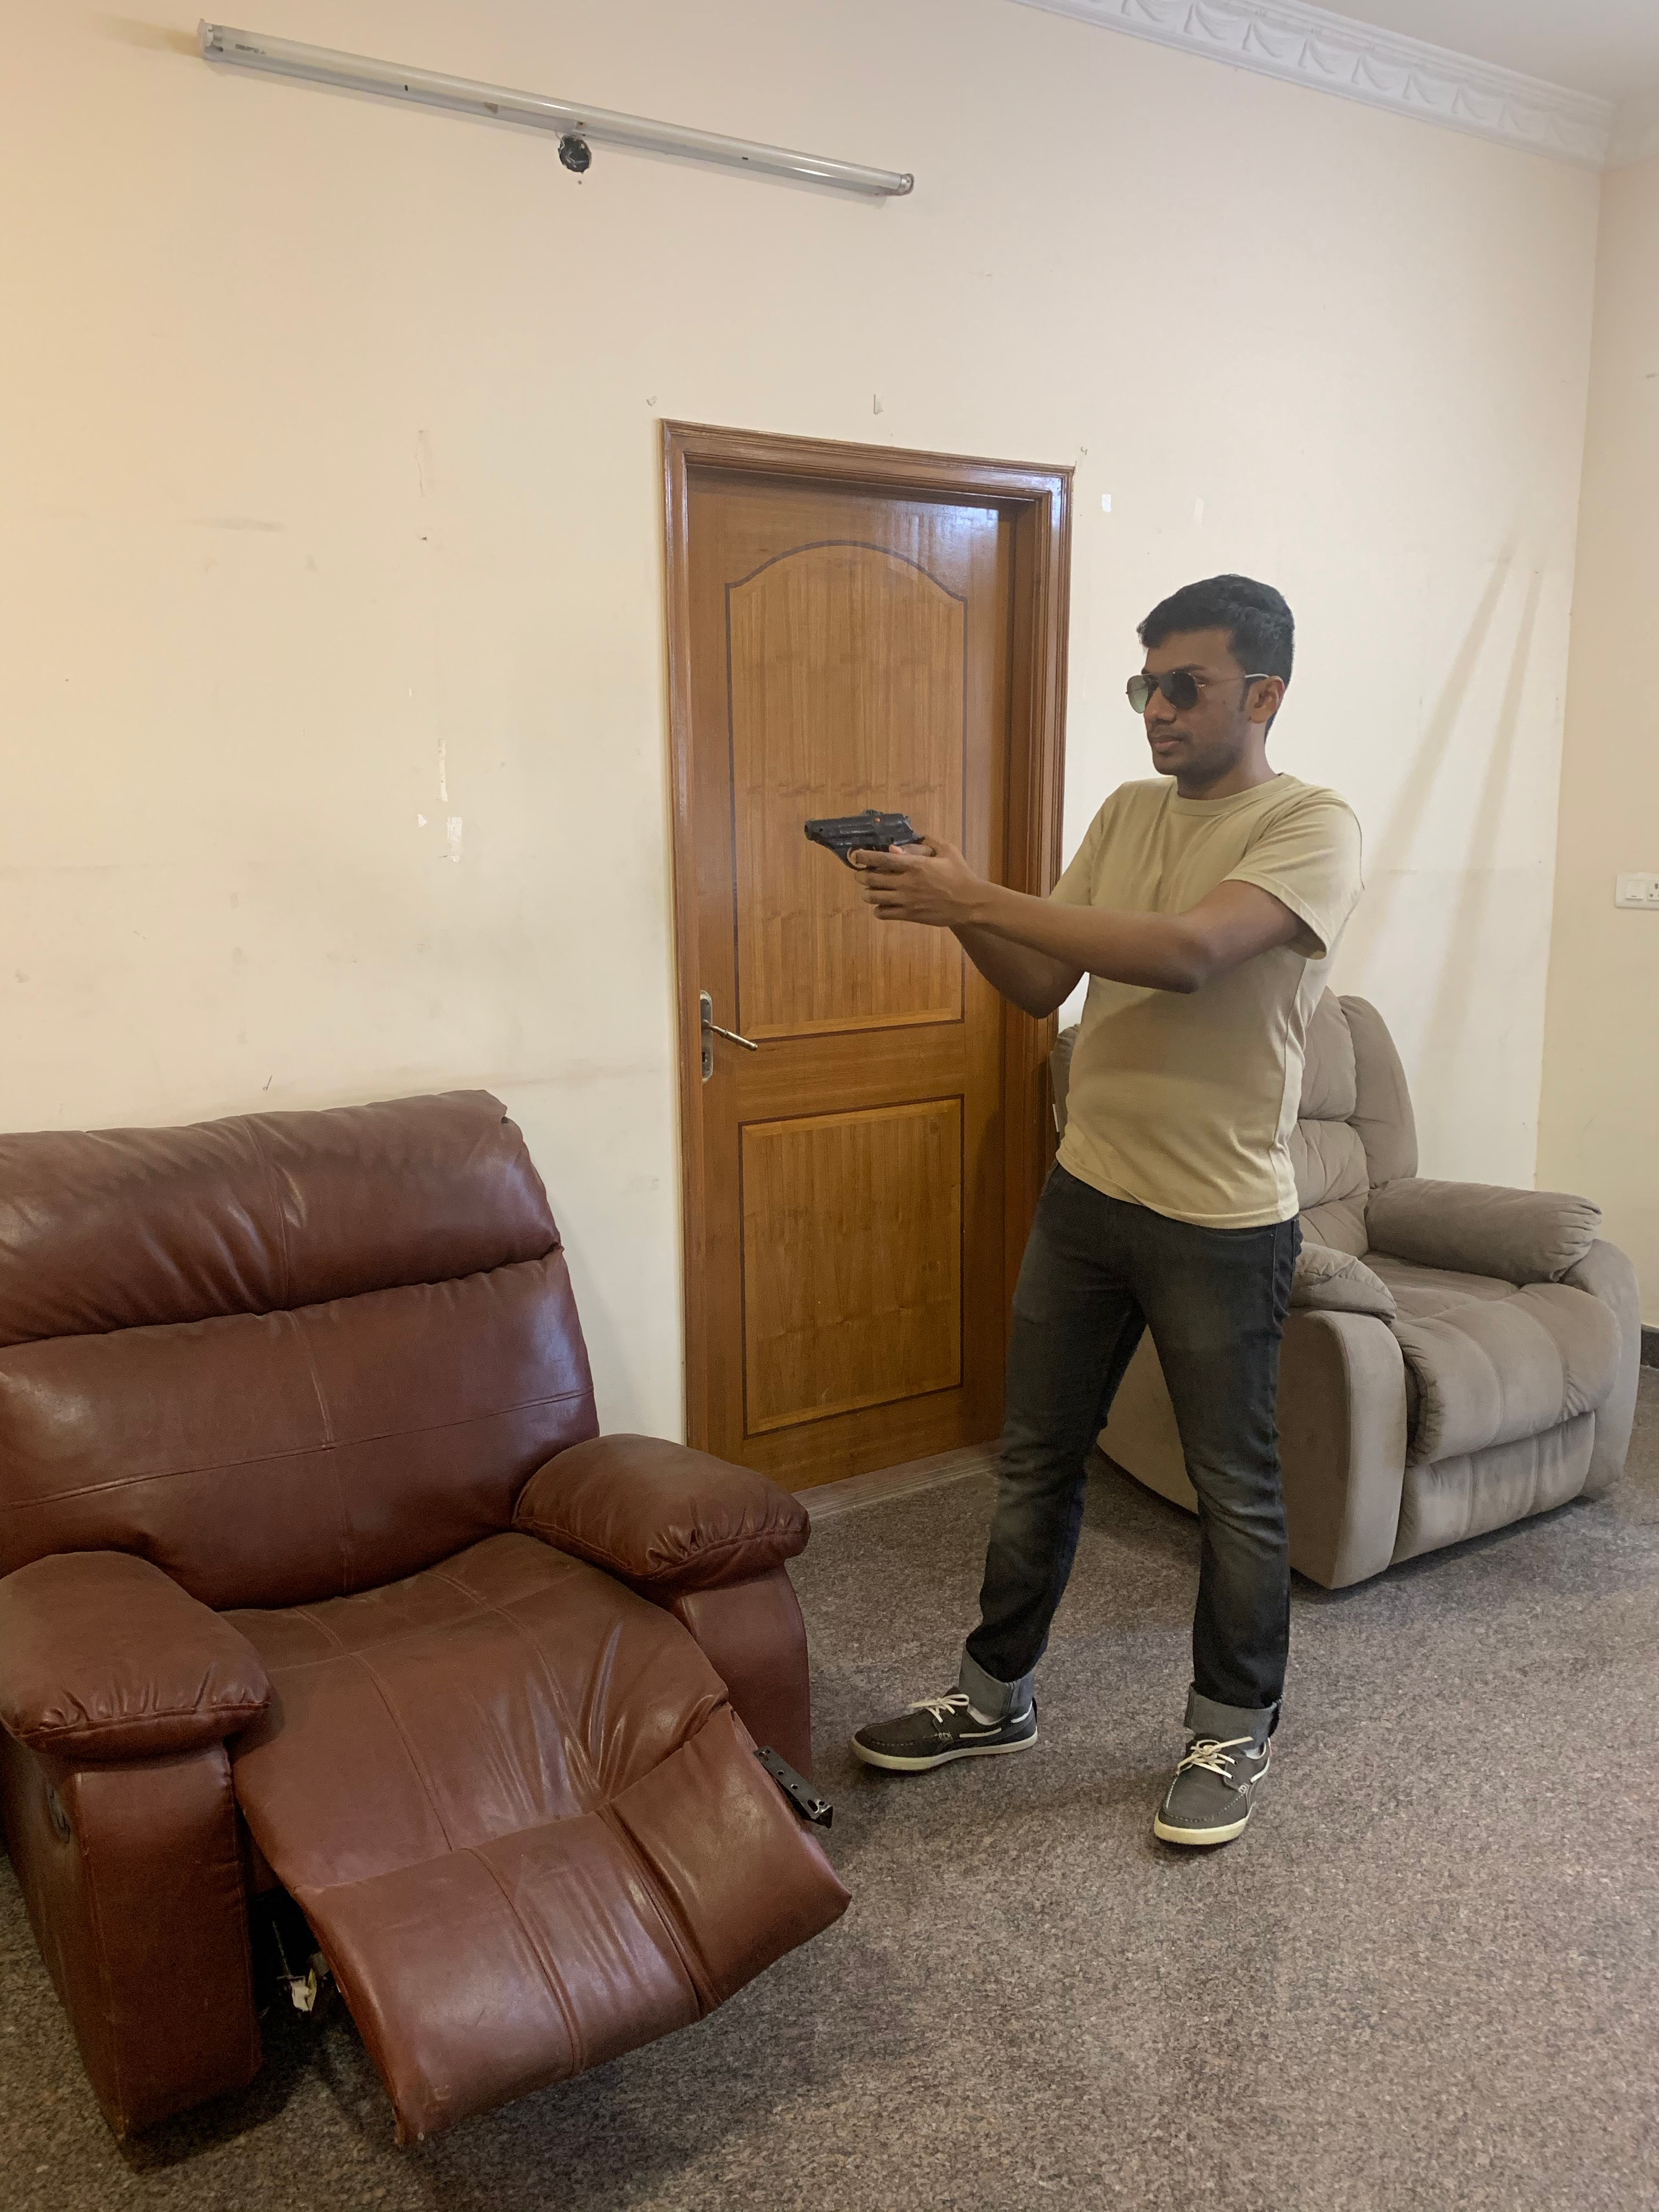gun: (795, 806, 948, 892)
